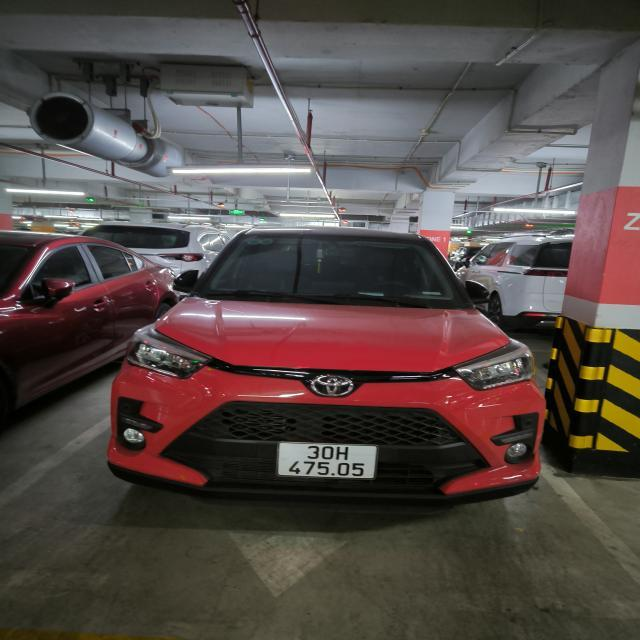license: (275, 441, 378, 480)
